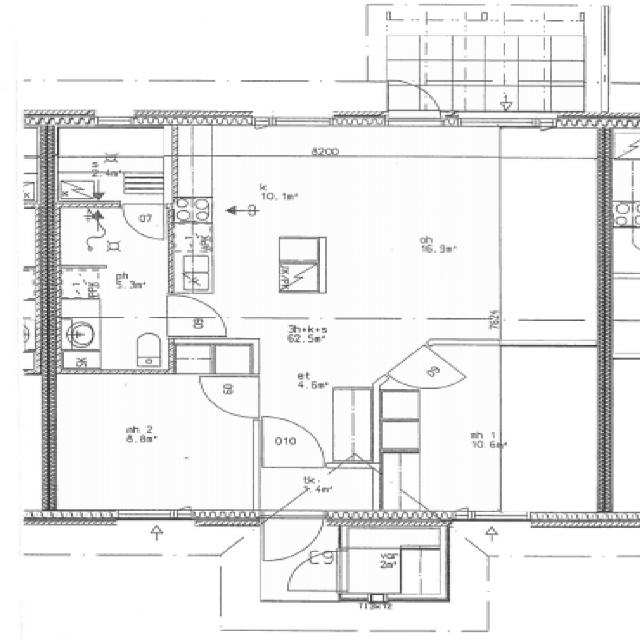door: (386, 344, 464, 403), (264, 510, 321, 571), (264, 416, 324, 467), (387, 69, 439, 125), (199, 376, 260, 416), (167, 296, 227, 336), (289, 552, 347, 590), (122, 200, 162, 238)
